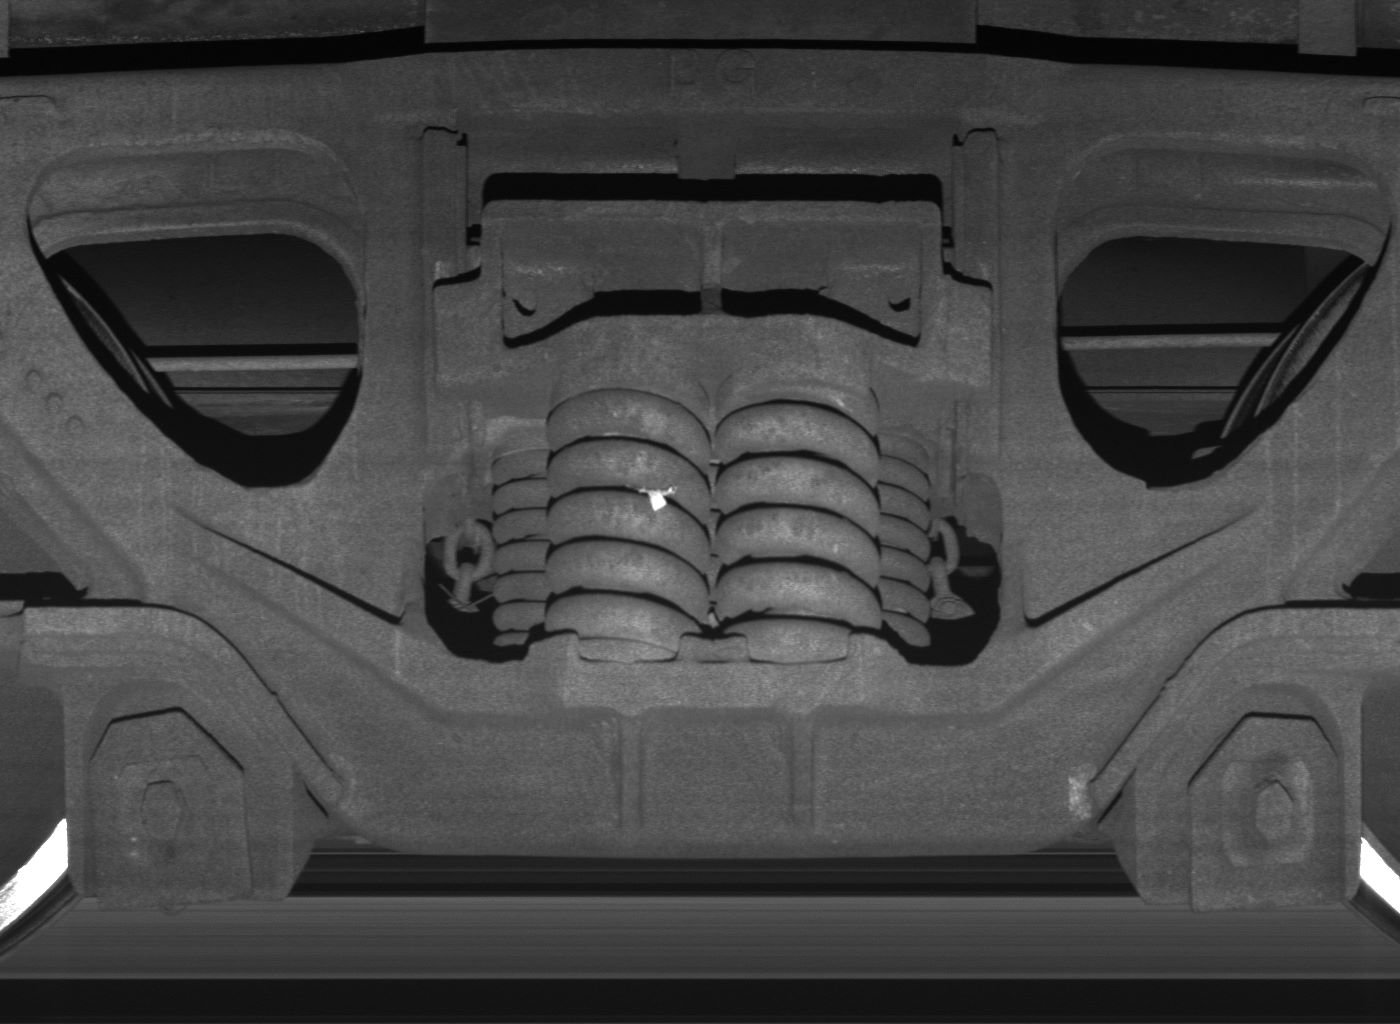normal: (64, 680, 293, 910), (1136, 686, 1360, 912)
